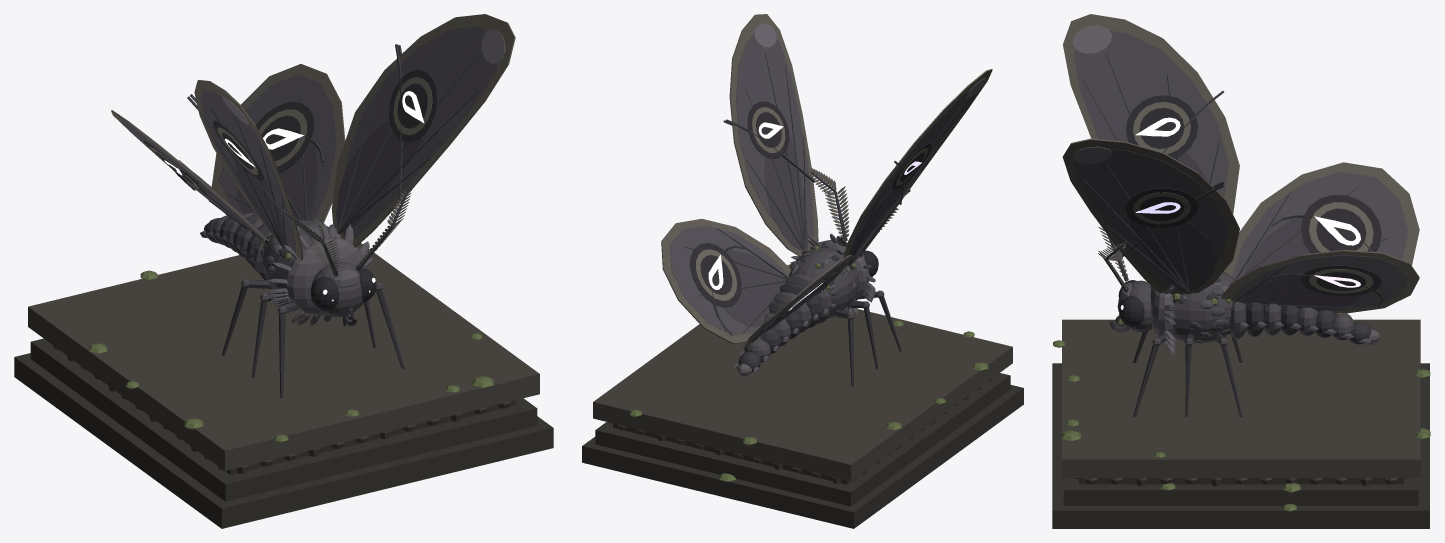
The model's file is idol_dipanti.glb.
The picture shows the model from 3 angles, left to right: view 1: azimuth 30°, elevation 25°; view 2: azimuth 150°, elevation 25°; view 3: azimuth 270°, elevation 25°; orthographic projection. The views are drawn at different scales.
Visible parts, largest first — view 1: idol_dipanti_plinth, idol_dipanti; view 2: idol_dipanti_plinth, idol_dipanti; view 3: idol_dipanti_plinth, idol_dipanti.
Boxes of the visible parts, x1,y1,x2,y2 form: idol_dipanti_plinth: [14, 243, 553, 528]; idol_dipanti: [111, 14, 515, 398]; idol_dipanti_plinth: [582, 309, 1023, 528]; idol_dipanti: [661, 14, 992, 386]; idol_dipanti_plinth: [1052, 318, 1430, 528]; idol_dipanti: [1062, 14, 1419, 416].
Size of the model in its own units: 2.41 by 2.88 by 2.6.
